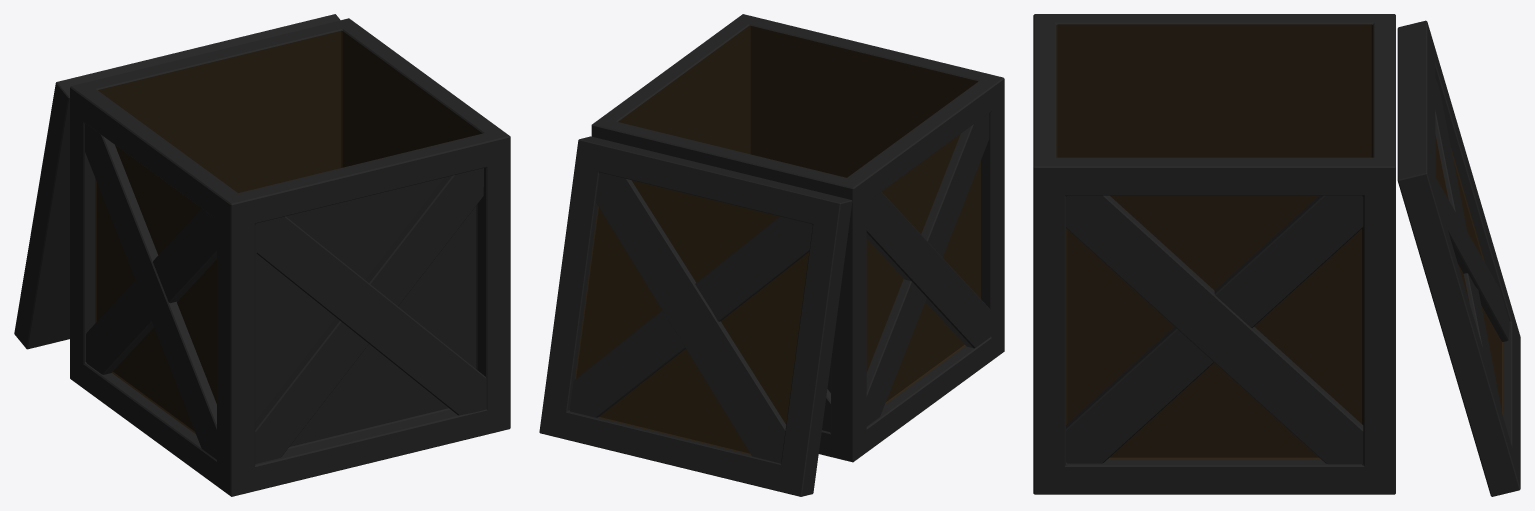
File: Boxe_Open_with_Lid.fbx
The picture shows the model from 3 angles, left to right: view 1: azimuth 30°, elevation 25°; view 2: azimuth 150°, elevation 25°; view 3: azimuth 270°, elevation 25°; orthographic projection. The views are drawn at different scales.
Parts seen in each view (by area): view 1: Box_Open; view 2: Box_Open; view 3: Box_Open.
Boxes of the visible parts, x1=… form: Box_Open: x1=14, y1=14, x2=510, y2=496; Box_Open: x1=539, y1=14, x2=1004, y2=496; Box_Open: x1=1033, y1=14, x2=1520, y2=496.
Bounding box in the file's own units: 50.52 × 50.85 × 67.87.
